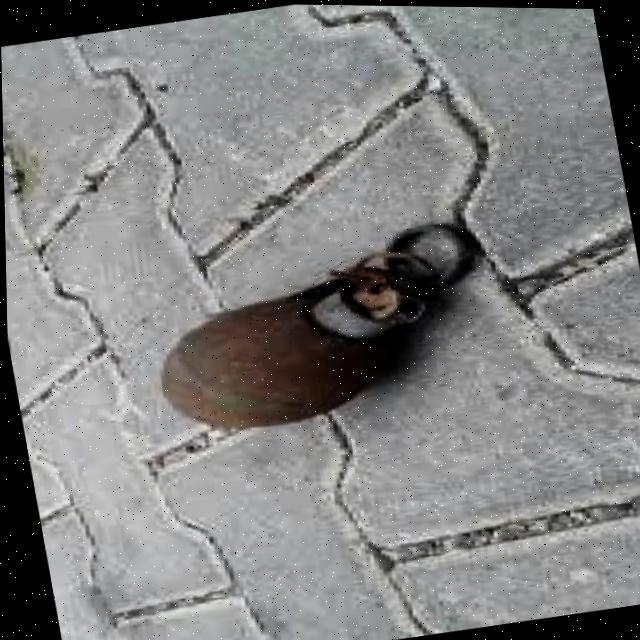grenade: (137, 193, 523, 464)
